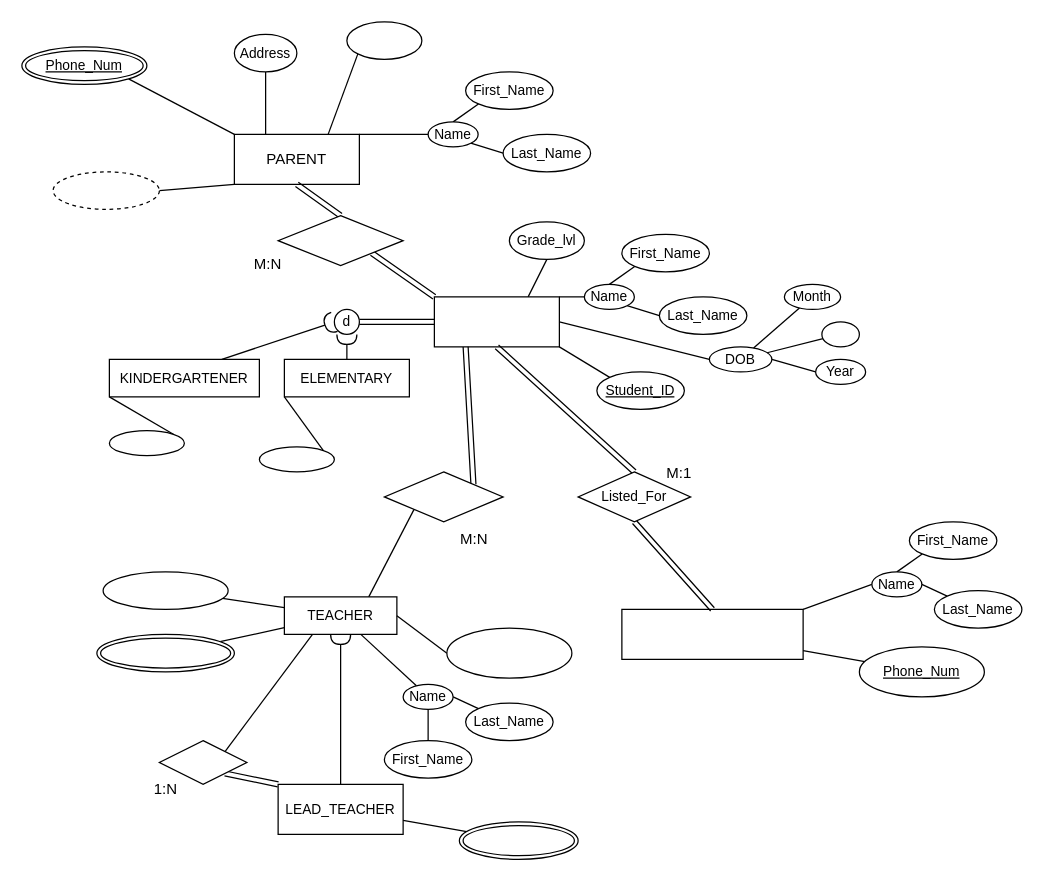
This 1044x881 diagram has some shape labels left out. Each missing label, with the centre of its shape:
Class: the point at 146,442
Day: the point at 840,334
Division: the point at 296,459
Email: the point at 384,40
EMERGENCY_CONTACT: the point at 712,633
Grades_Teaching: the point at 165,652
leads_grade: the point at 518,840
Manages: the point at 202,761
Num_Children: the point at 105,190
Parent_Of: the point at 340,240
Preferred_Prefix: the point at 165,590
STUDENT: the point at 496,321
TEACHES: the point at 443,496
Teaching_ID: the point at 509,652
